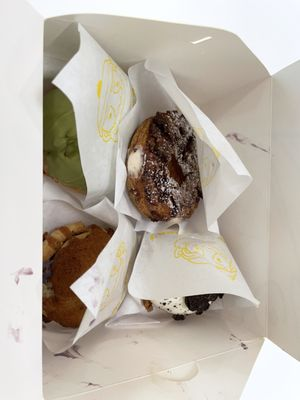salad: (125, 108, 203, 222)
